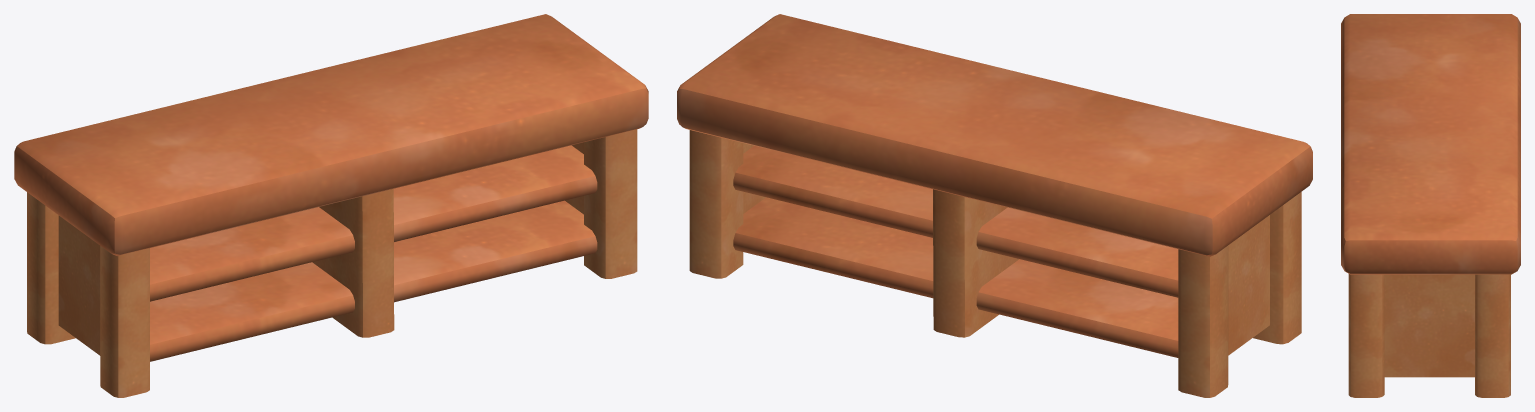
Rendered from Sm_Furniture_Large.fbx.
3 renders of one model, left to right at view 1: azimuth 30°, elevation 25°; view 2: azimuth 150°, elevation 25°; view 3: azimuth 270°, elevation 25°, orthographic. The views are drawn at different scales.
Visible parts, largest first — view 1: SM_Furniture_Large_02_pt1, SM_Furniture_Large_02_pt3, SM_Furniture_Large_02_pt2; view 2: SM_Furniture_Large_02_pt1, SM_Furniture_Large_02_pt3, SM_Furniture_Large_02_pt2; view 3: SM_Furniture_Large_02_pt3, SM_Furniture_Large_02_pt2, SM_Furniture_Large_02_pt1.
Boxes of the visible parts, x1,y1,x2,y2 form: SM_Furniture_Large_02_pt1: (14,99,296,397); SM_Furniture_Large_02_pt3: (372,14,648,286); SM_Furniture_Large_02_pt2: (198,56,470,337); SM_Furniture_Large_02_pt1: (1030,99,1312,397); SM_Furniture_Large_02_pt3: (677,14,953,283); SM_Furniture_Large_02_pt2: (855,56,1128,337); SM_Furniture_Large_02_pt3: (1341,161,1520,397); SM_Furniture_Large_02_pt2: (1341,87,1520,169); SM_Furniture_Large_02_pt1: (1341,14,1520,96).
Bounding box in the file's own units: 299 × 99.94 × 99.7.
